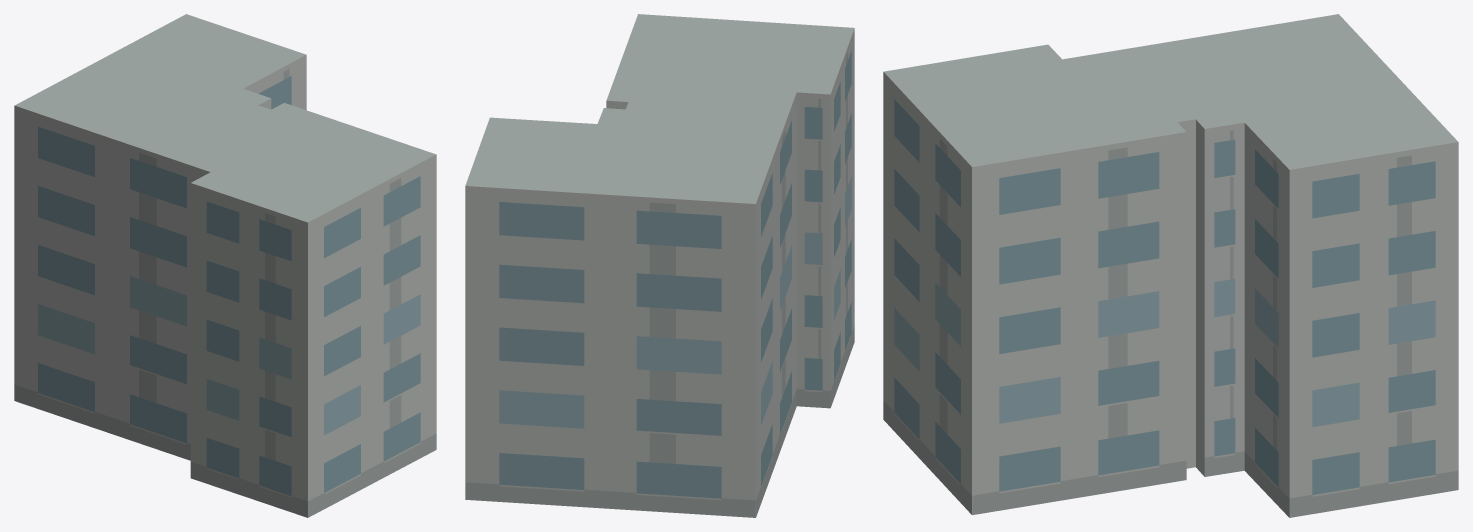
Rendered from survey-upis-32908132.glb.
3 views of the same model, side by side, from view 1: azimuth 30°, elevation 25°; view 2: azimuth 150°, elevation 25°; view 3: azimuth 270°, elevation 25° (orthographic). The views are drawn at different scales.
Parts seen in each view (by area): view 1: survey-upis-32908132.tmp; view 2: survey-upis-32908132.tmp; view 3: survey-upis-32908132.tmp.
Boxes of the visible parts, <box> form: survey-upis-32908132.tmp: <box>14,14,436,517</box>; survey-upis-32908132.tmp: <box>465,14,854,517</box>; survey-upis-32908132.tmp: <box>883,14,1458,517</box>.
Size of the model in its own units: 14.33 by 14.9 by 22.33.
